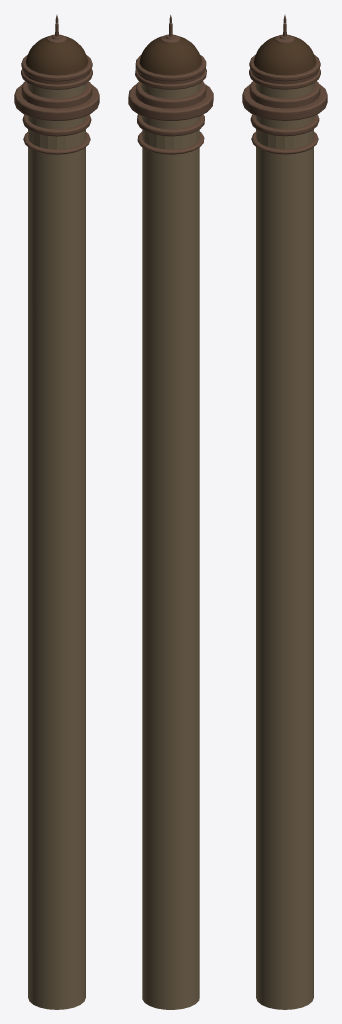
Rendered from TallDome2.fbx.
The picture shows the model from 3 angles, left to right: view 1: azimuth 90°, elevation 25°; view 2: azimuth 150°, elevation 25°; view 3: azimuth 270°, elevation 25°; orthographic projection.
Visible parts, largest first — view 1: TallSphere; view 2: TallSphere; view 3: TallSphere.
Part boxes in pixels (x1,y1,x2,y2): TallSphere: [14, 15, 99, 1009]; TallSphere: [128, 14, 213, 1009]; TallSphere: [242, 15, 327, 1009].
Size of the model in its own units: 11.3 by 143 by 11.3.
